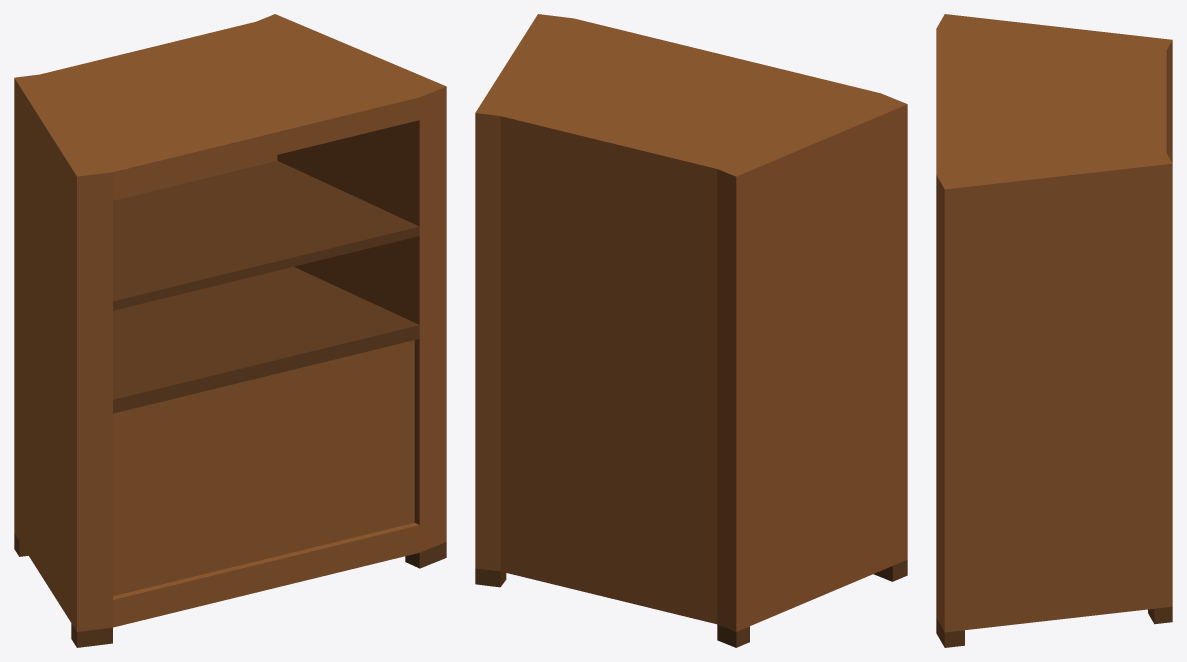
Rendered from shelf.fbx.
The picture shows the model from 3 angles, left to right: view 1: azimuth 30°, elevation 25°; view 2: azimuth 150°, elevation 25°; view 3: azimuth 270°, elevation 25°; orthographic projection. The views are drawn at different scales.
Parts seen in each view (by area): view 1: Box001; view 2: Box001; view 3: Box001.
Boxes of the visible parts, x1=… form: Box001: x1=14, y1=14, x2=446, y2=647; Box001: x1=475, y1=14, x2=907, y2=647; Box001: x1=936, y1=14, x2=1172, y2=647.
Bounding box in the file's own units: 56.04 × 68.27 × 31.92.
